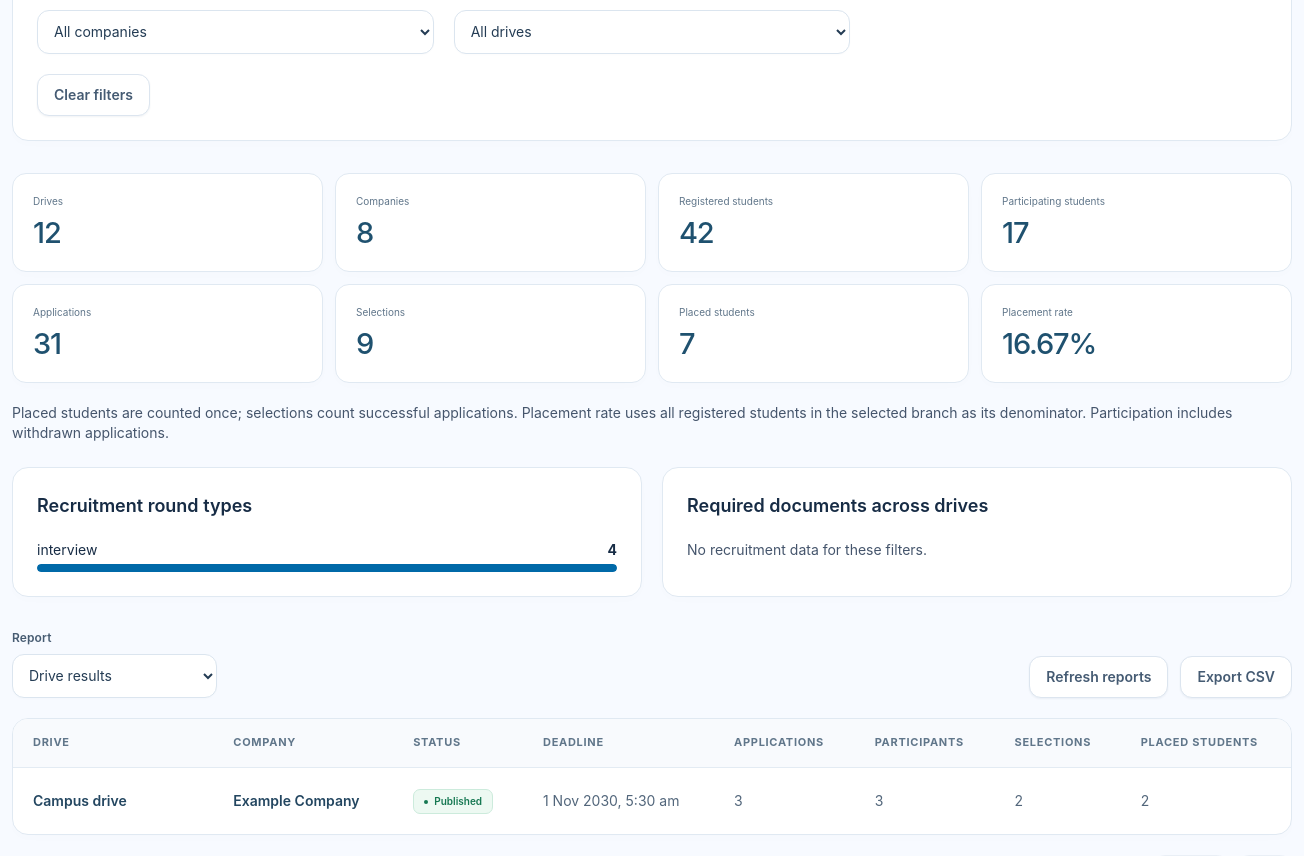
exports the complete filtered report and surfaces structured CSV request errors
The image size is (1304, 856).
(page scrolled)
Check: the link "Campus drive" is shown, box x1=33 y1=792 x2=127 y2=808
Click the button "Export CSV": (1236, 677) x1=1180 y1=656 x2=1292 y2=698
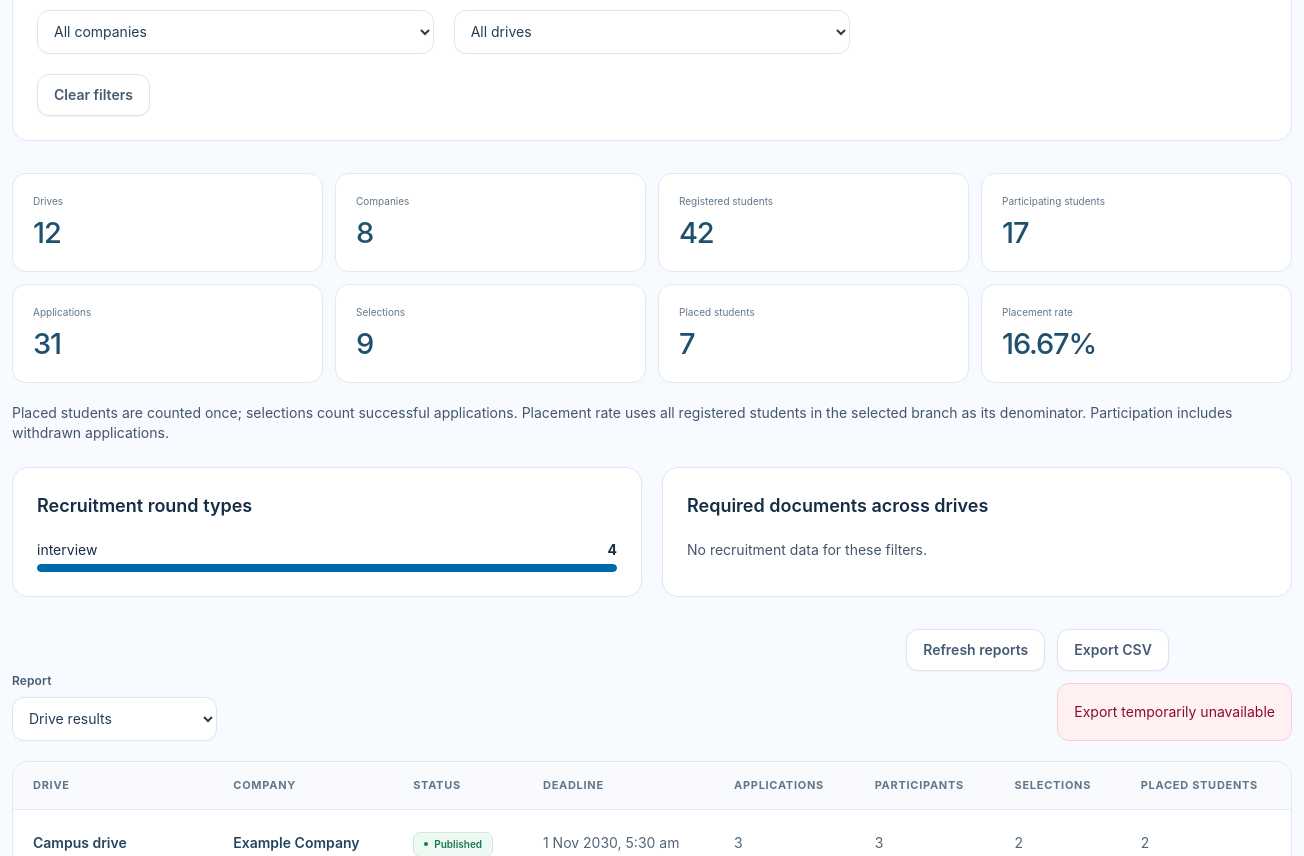
Check: the text "Export temporarily unavailable" is shown, box x1=1074 y1=700 x2=1275 y2=724
Click the button "Export CSV": (1113, 650) x1=1057 y1=629 x2=1169 y2=671
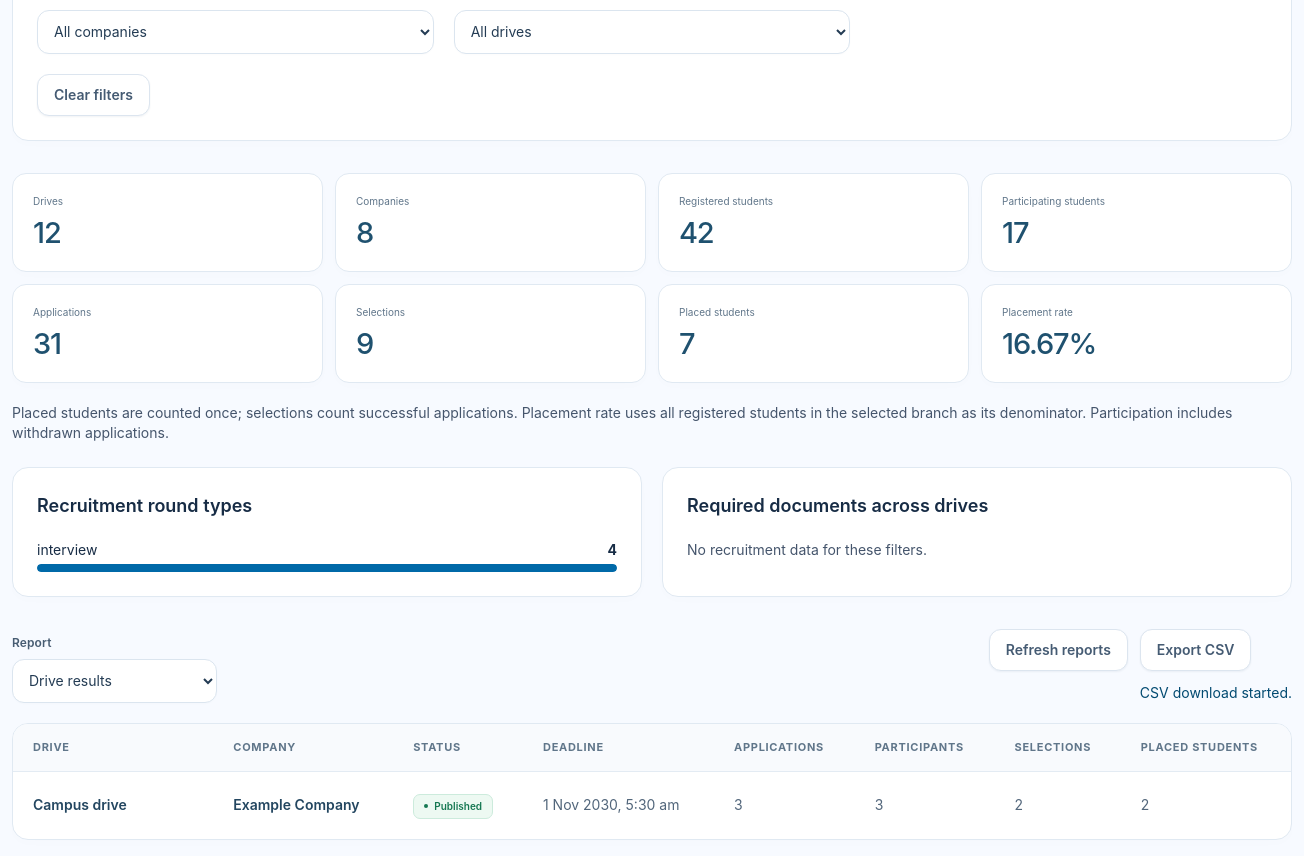
Check: the text "CSV download started." is shown, box x1=1140 y1=683 x2=1292 y2=703
